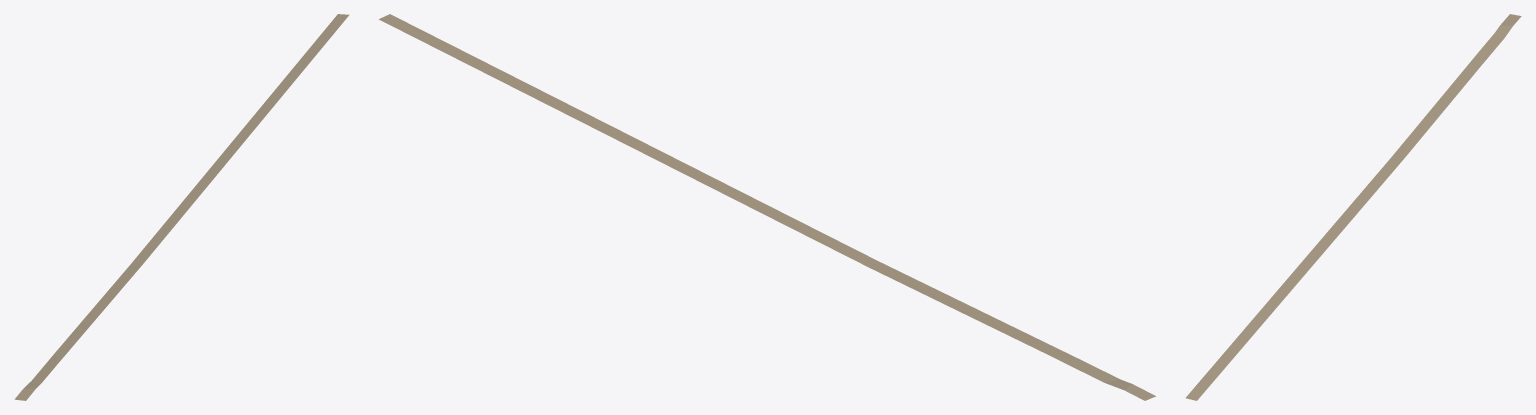
File: farm_13_7_track.glb
3 views of the same model, side by side, from view 1: azimuth 90°, elevation 25°; view 2: azimuth 150°, elevation 25°; view 3: azimuth 270°, elevation 25° (orthographic). The views are drawn at different scales.
Visible parts, largest first — view 1: geometry_0; view 2: geometry_0; view 3: geometry_0.
Boxes of the visible parts, box(x1,y1,x2,y2) form: geometry_0: box(14, 14, 349, 400); geometry_0: box(379, 14, 1155, 400); geometry_0: box(1185, 14, 1521, 400).
Bounding box in the file's own units: 241 × 1.44 × 88.52.
